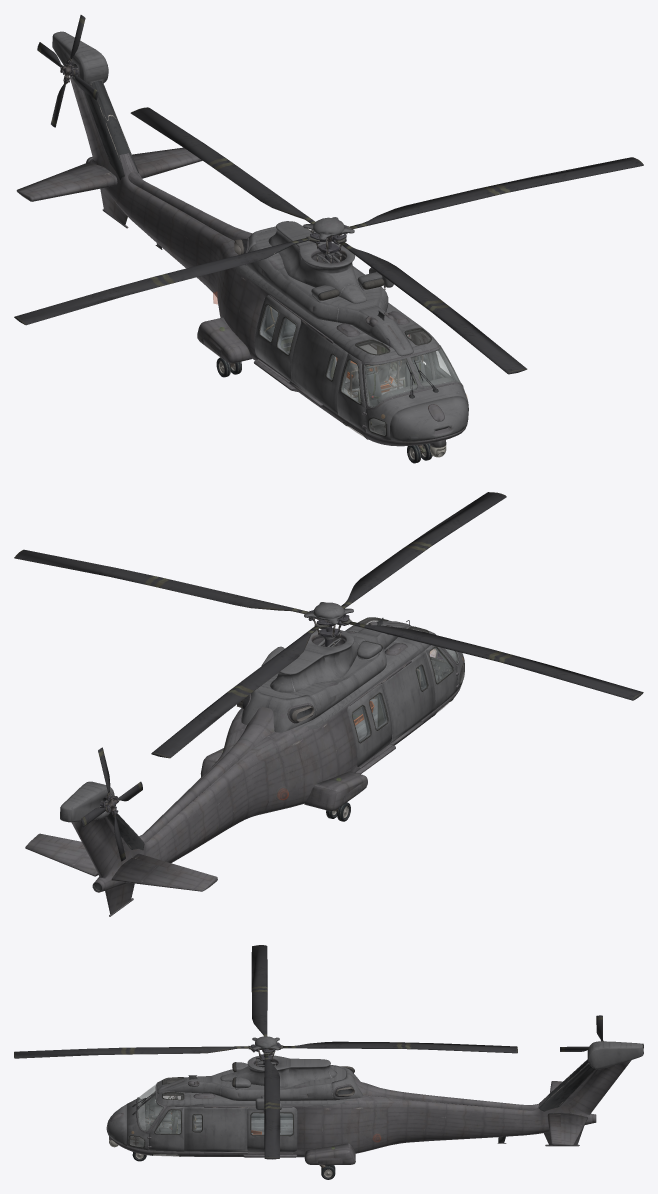
File: cargo_transport_heli.glb
The picture shows the model from 3 angles, top to bottom: view 1: azimuth 30°, elevation 25°; view 2: azimuth 150°, elevation 25°; view 3: azimuth 270°, elevation 25°; orthographic projection. The views are drawn at different scales.
Visible parts, largest first — view 1: KB3D_MTV_VehicTransportHelicopter_A_body, KB3D_MTV_VehicTransportHelicopter_A_rotorMain, KB3D_MTV_VehicTransportHelicopter_A_body_transparent, KB3D_MTV_VehicTransportHelicopter_A_doorRR, KB3D_MTV_VehicTransportHelicopter_A_rotorTail, KB3D_MTV_VehicTransportHelicopter_A_doorRF, KB3D_MTV_VehicTransportHelicopter_A_doorRR_transparent; view 2: KB3D_MTV_VehicTransportHelicopter_A_body, KB3D_MTV_VehicTransportHelicopter_A_rotorMain, KB3D_MTV_VehicTransportHelicopter_A_doorRR, KB3D_MTV_VehicTransportHelicopter_A_rotorTail, KB3D_MTV_VehicTransportHelicopter_A_doorRF, KB3D_MTV_VehicTransportHelicopter_A_doorRR_transparent, KB3D_MTV_VehicTransportHelicopter_A_body_transparent; view 3: KB3D_MTV_VehicTransportHelicopter_A_body, KB3D_MTV_VehicTransportHelicopter_A_rotorMain, KB3D_MTV_VehicTransportHelicopter_A_body_transparent, KB3D_MTV_VehicTransportHelicopter_A_doorLR, KB3D_MTV_VehicTransportHelicopter_A_doorLF, KB3D_MTV_VehicTransportHelicopter_A_doorLR_transparent, KB3D_MTV_VehicTransportHelicopter_A_doorLF_transparent.
Boxes of the visible parts, x1,y1,x2,y2 form: KB3D_MTV_VehicTransportHelicopter_A_body: (16, 31, 468, 457); KB3D_MTV_VehicTransportHelicopter_A_rotorMain: (14, 107, 643, 374); KB3D_MTV_VehicTransportHelicopter_A_body_transparent: (213, 290, 467, 456); KB3D_MTV_VehicTransportHelicopter_A_doorRR: (254, 295, 300, 380); KB3D_MTV_VehicTransportHelicopter_A_rotorTail: (37, 15, 98, 127); KB3D_MTV_VehicTransportHelicopter_A_doorRF: (337, 353, 366, 431); KB3D_MTV_VehicTransportHelicopter_A_doorRR_transparent: (260, 305, 295, 354); KB3D_MTV_VehicTransportHelicopter_A_body: (25, 617, 464, 916); KB3D_MTV_VehicTransportHelicopter_A_rotorMain: (14, 492, 643, 758); KB3D_MTV_VehicTransportHelicopter_A_doorRR: (347, 684, 392, 766); KB3D_MTV_VehicTransportHelicopter_A_rotorTail: (81, 747, 142, 861); KB3D_MTV_VehicTransportHelicopter_A_doorRF: (425, 645, 458, 709); KB3D_MTV_VehicTransportHelicopter_A_doorRR_transparent: (353, 694, 387, 741); KB3D_MTV_VehicTransportHelicopter_A_body_transparent: (276, 618, 464, 800); KB3D_MTV_VehicTransportHelicopter_A_body: (106, 1041, 643, 1164); KB3D_MTV_VehicTransportHelicopter_A_rotorMain: (14, 945, 517, 1159); KB3D_MTV_VehicTransportHelicopter_A_body_transparent: (110, 1078, 381, 1156); KB3D_MTV_VehicTransportHelicopter_A_doorLR: (247, 1107, 297, 1151); KB3D_MTV_VehicTransportHelicopter_A_doorLF: (149, 1106, 184, 1151); KB3D_MTV_VehicTransportHelicopter_A_doorLR_transparent: (251, 1113, 292, 1134); KB3D_MTV_VehicTransportHelicopter_A_doorLF_transparent: (155, 1110, 180, 1133).
Size of the model in its own units: 17.6 by 5.45 by 22.
Materials: 16 (16 with a texture image).
